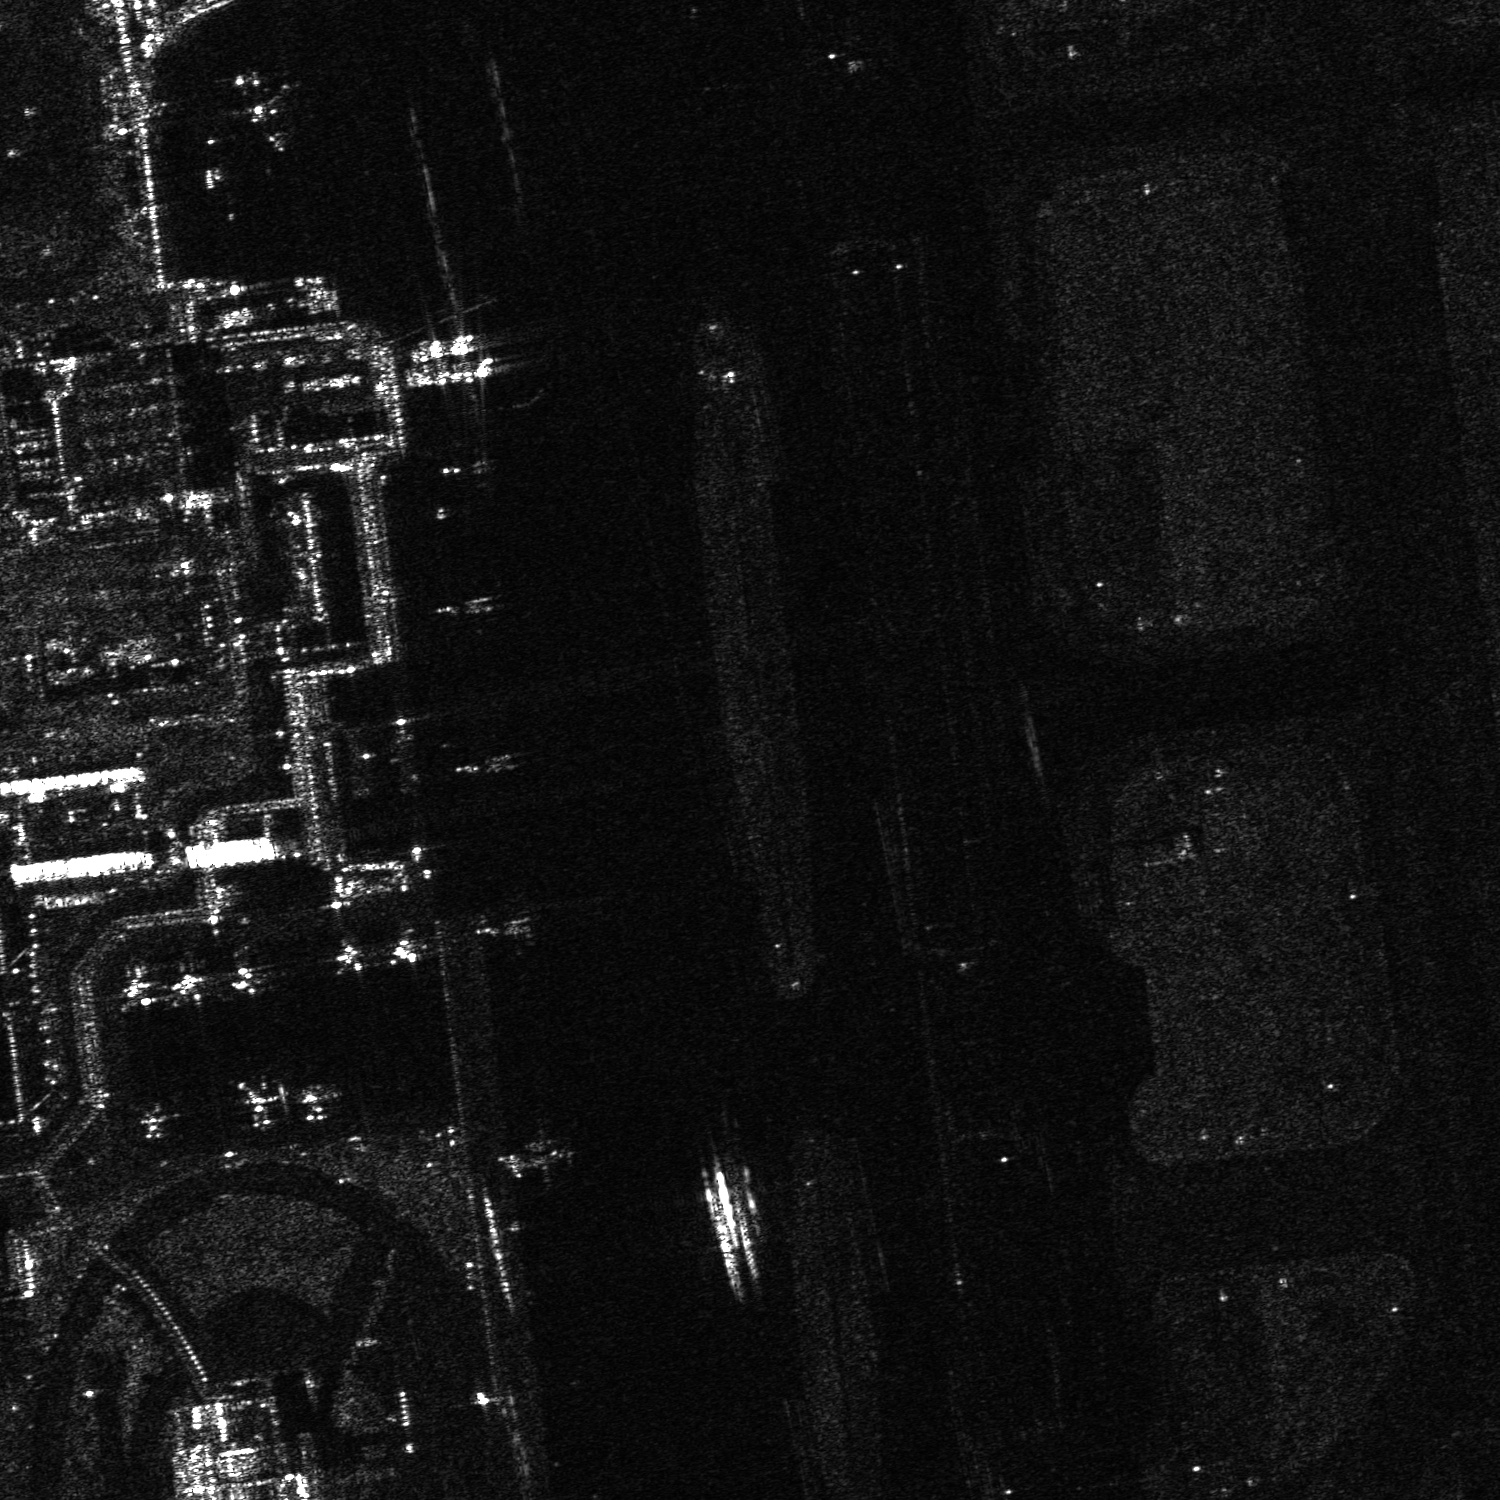Boeing787: (207, 59, 299, 154)
other: (236, 1077, 280, 1128), (114, 968, 157, 1008), (293, 1080, 330, 1125), (227, 960, 262, 996), (136, 1102, 170, 1139), (332, 940, 365, 973), (170, 968, 205, 999), (389, 934, 418, 964)
